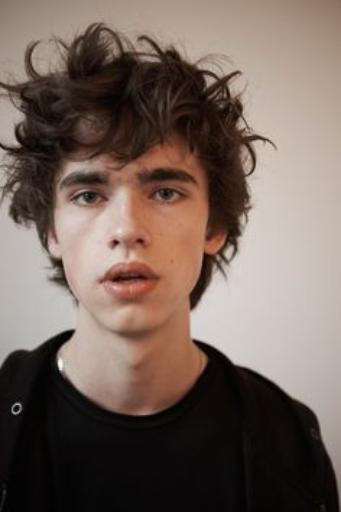left_eye: (148, 186, 189, 207)
left_lip_corner: (152, 272, 163, 291)
right_eye: (70, 188, 110, 210)
right_lip_corner: (96, 275, 108, 294)
